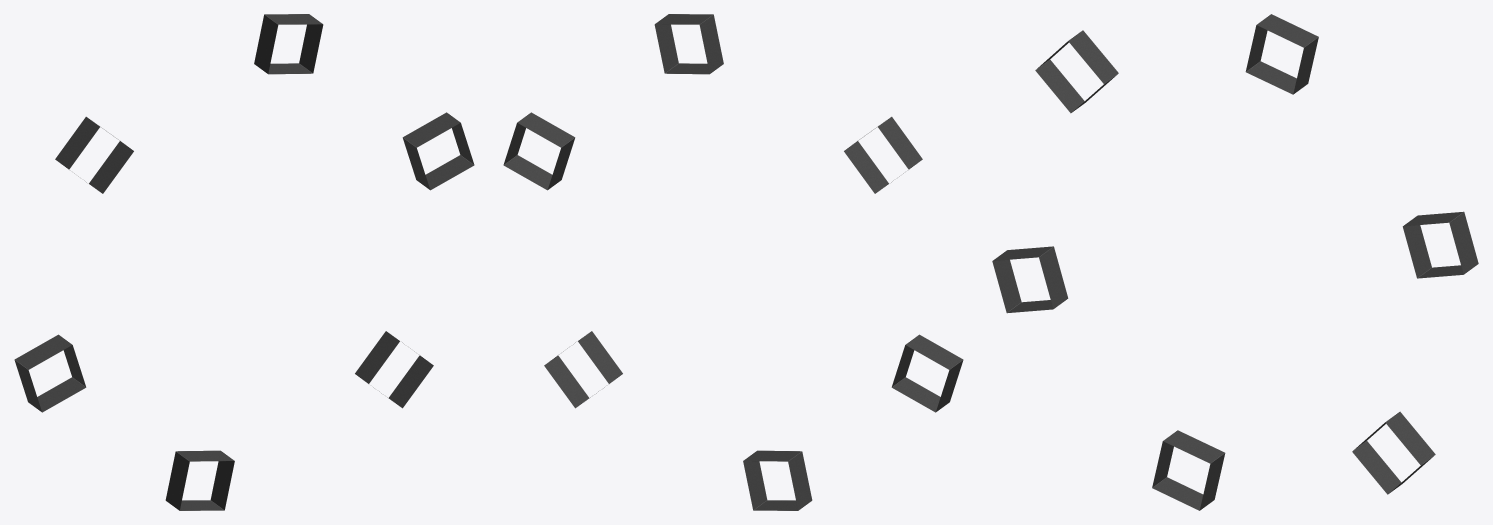
The model's file is jc-sj-1517-geode.glb.
The picture shows the model from 3 angles, left to right: view 1: azimuth 30°, elevation 25°; view 2: azimuth 150°, elevation 25°; view 3: azimuth 330°, elevation 25°; orthographic projection. The views are drawn at different scales.
Parts seen in each view (by area): view 1: Node; view 2: Node; view 3: Node.
Boxes of the visible parts, x1=… form: Node: x1=14, y1=14, x2=474, y2=510; Node: x1=503, y1=14, x2=963, y2=510; Node: x1=992, y1=14, x2=1478, y2=510.
Size of the model in its own units: 2.89 by 2.92 by 0.16.
1 material, 1 textured.
